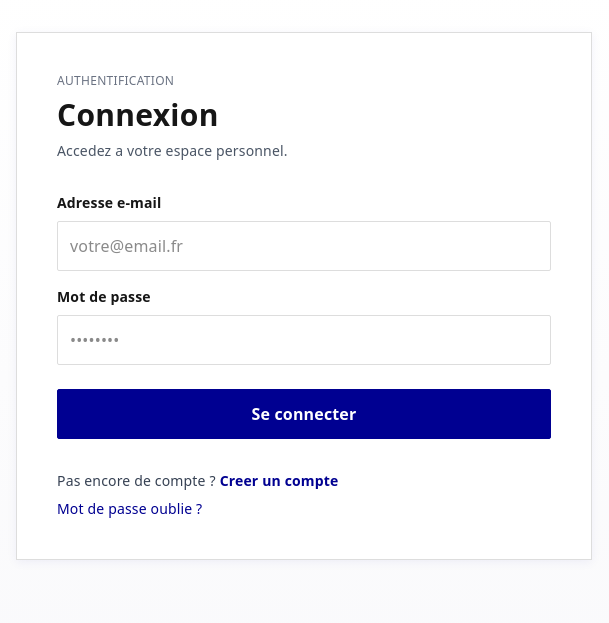
Login page › shows backend error message on failed login
Type "wrong@example.com" into the field labelled "Adresse e-mail".
click(304, 246); type("wrong@example.com")  # box [57,221,551,271]
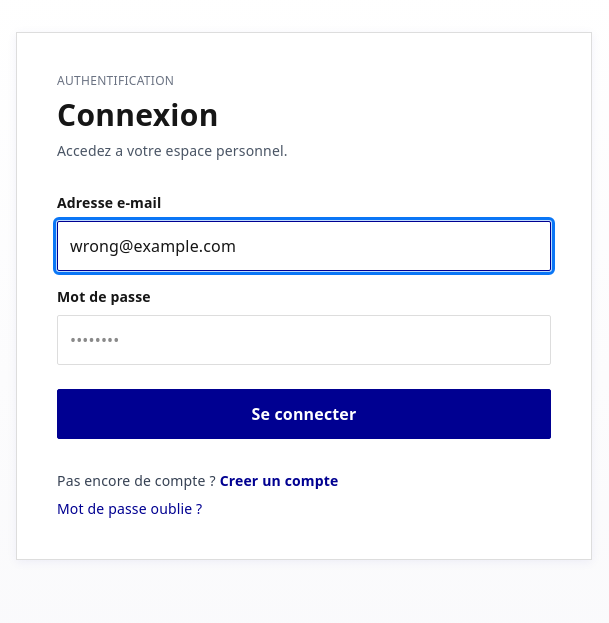
Type "badpass" into the password field labelled "Mot de passe".
click(304, 340); type("badpass")  # box [57,315,551,365]
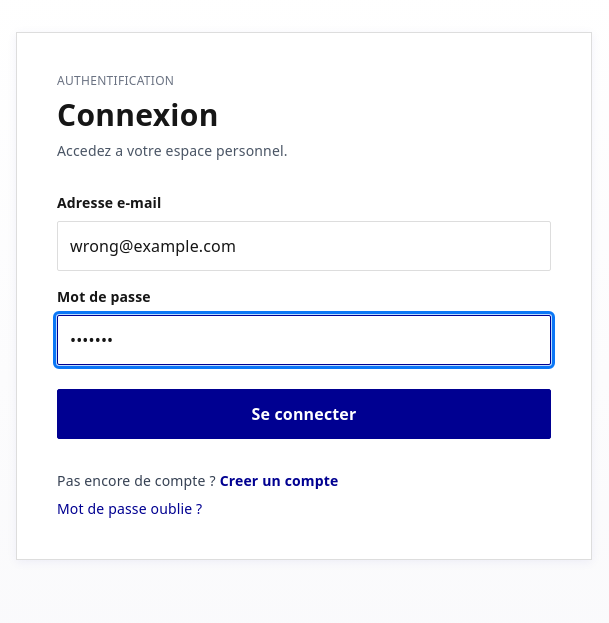
Click the button "Se connecter".
click(304, 414)  # box [57,389,551,439]
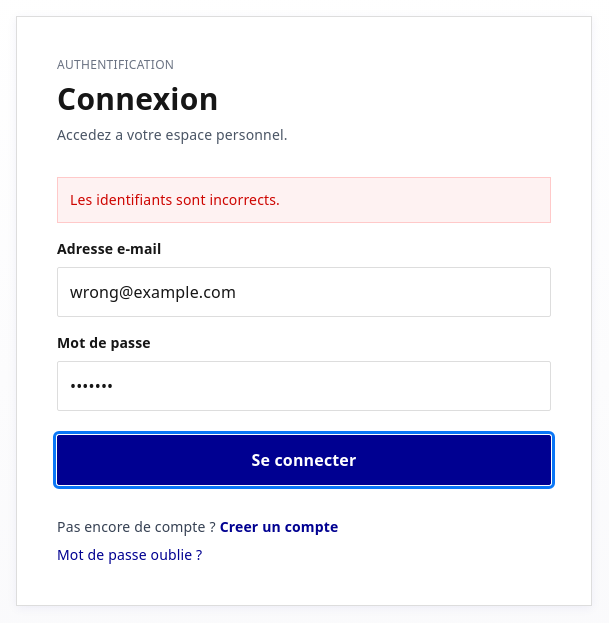
Check: the text "Les identifiants sont incorrects." is shown, box [57,177,551,223]
